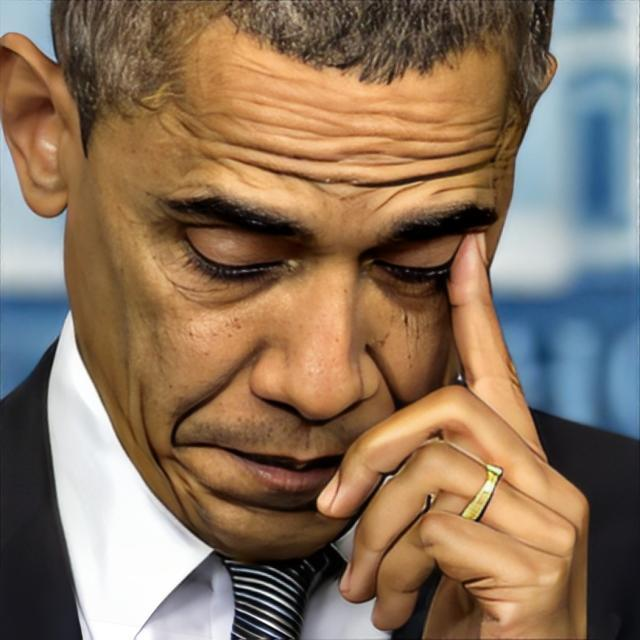sad: (61, 0, 558, 563)
